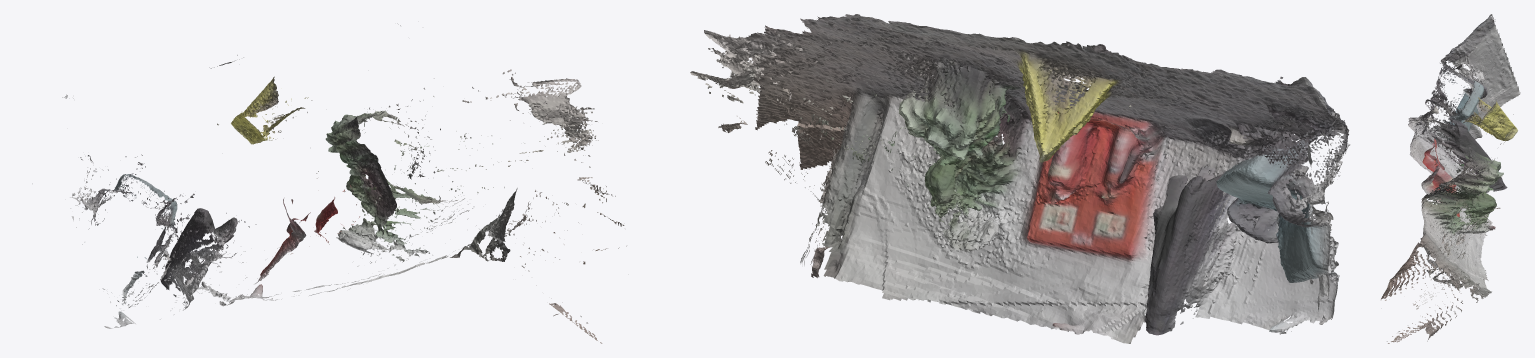
File: 7scenes_file_agent3.glb
3 renders of one model, left to right at view 1: azimuth 30°, elevation 25°; view 2: azimuth 150°, elevation 25°; view 3: azimuth 270°, elevation 25°, orthographic. The views are drawn at different scales.
Visible parts, largest first — view 1: world; view 2: world; view 3: world.
Part boxes in pixels (bbox=[...]): world: bbox=[32, 23, 626, 343]; world: bbox=[690, 14, 1350, 343]; world: bbox=[1381, 14, 1520, 343].
Size of the model in its own units: 4.8 by 2.57 by 1.71.
